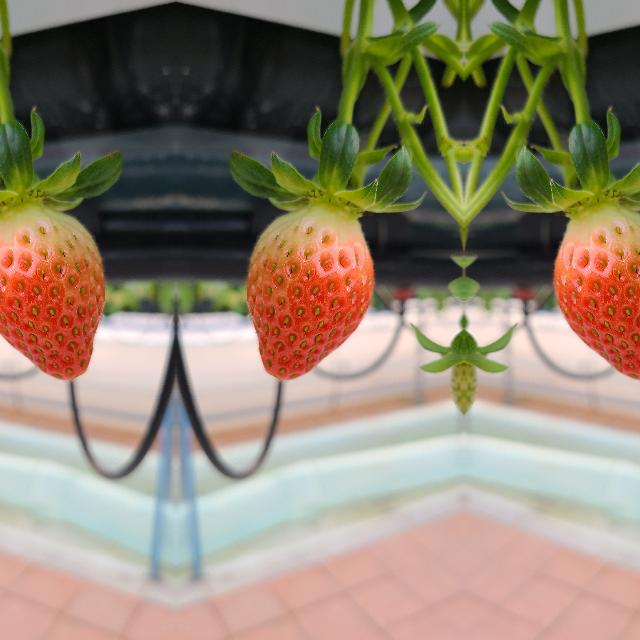Health_100: (246, 200, 372, 380), (0, 200, 104, 379), (554, 200, 640, 379)
